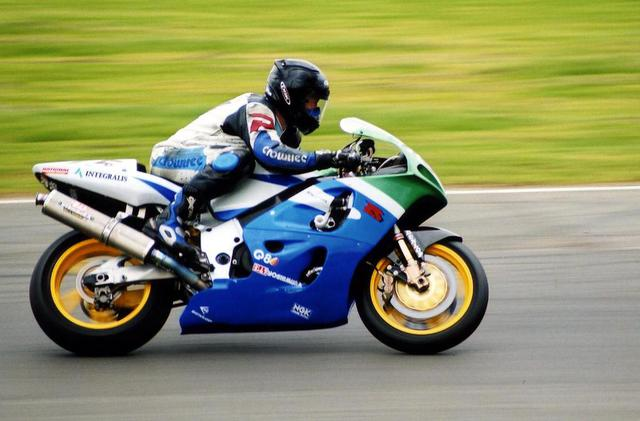helmet: (271, 58, 337, 132)
